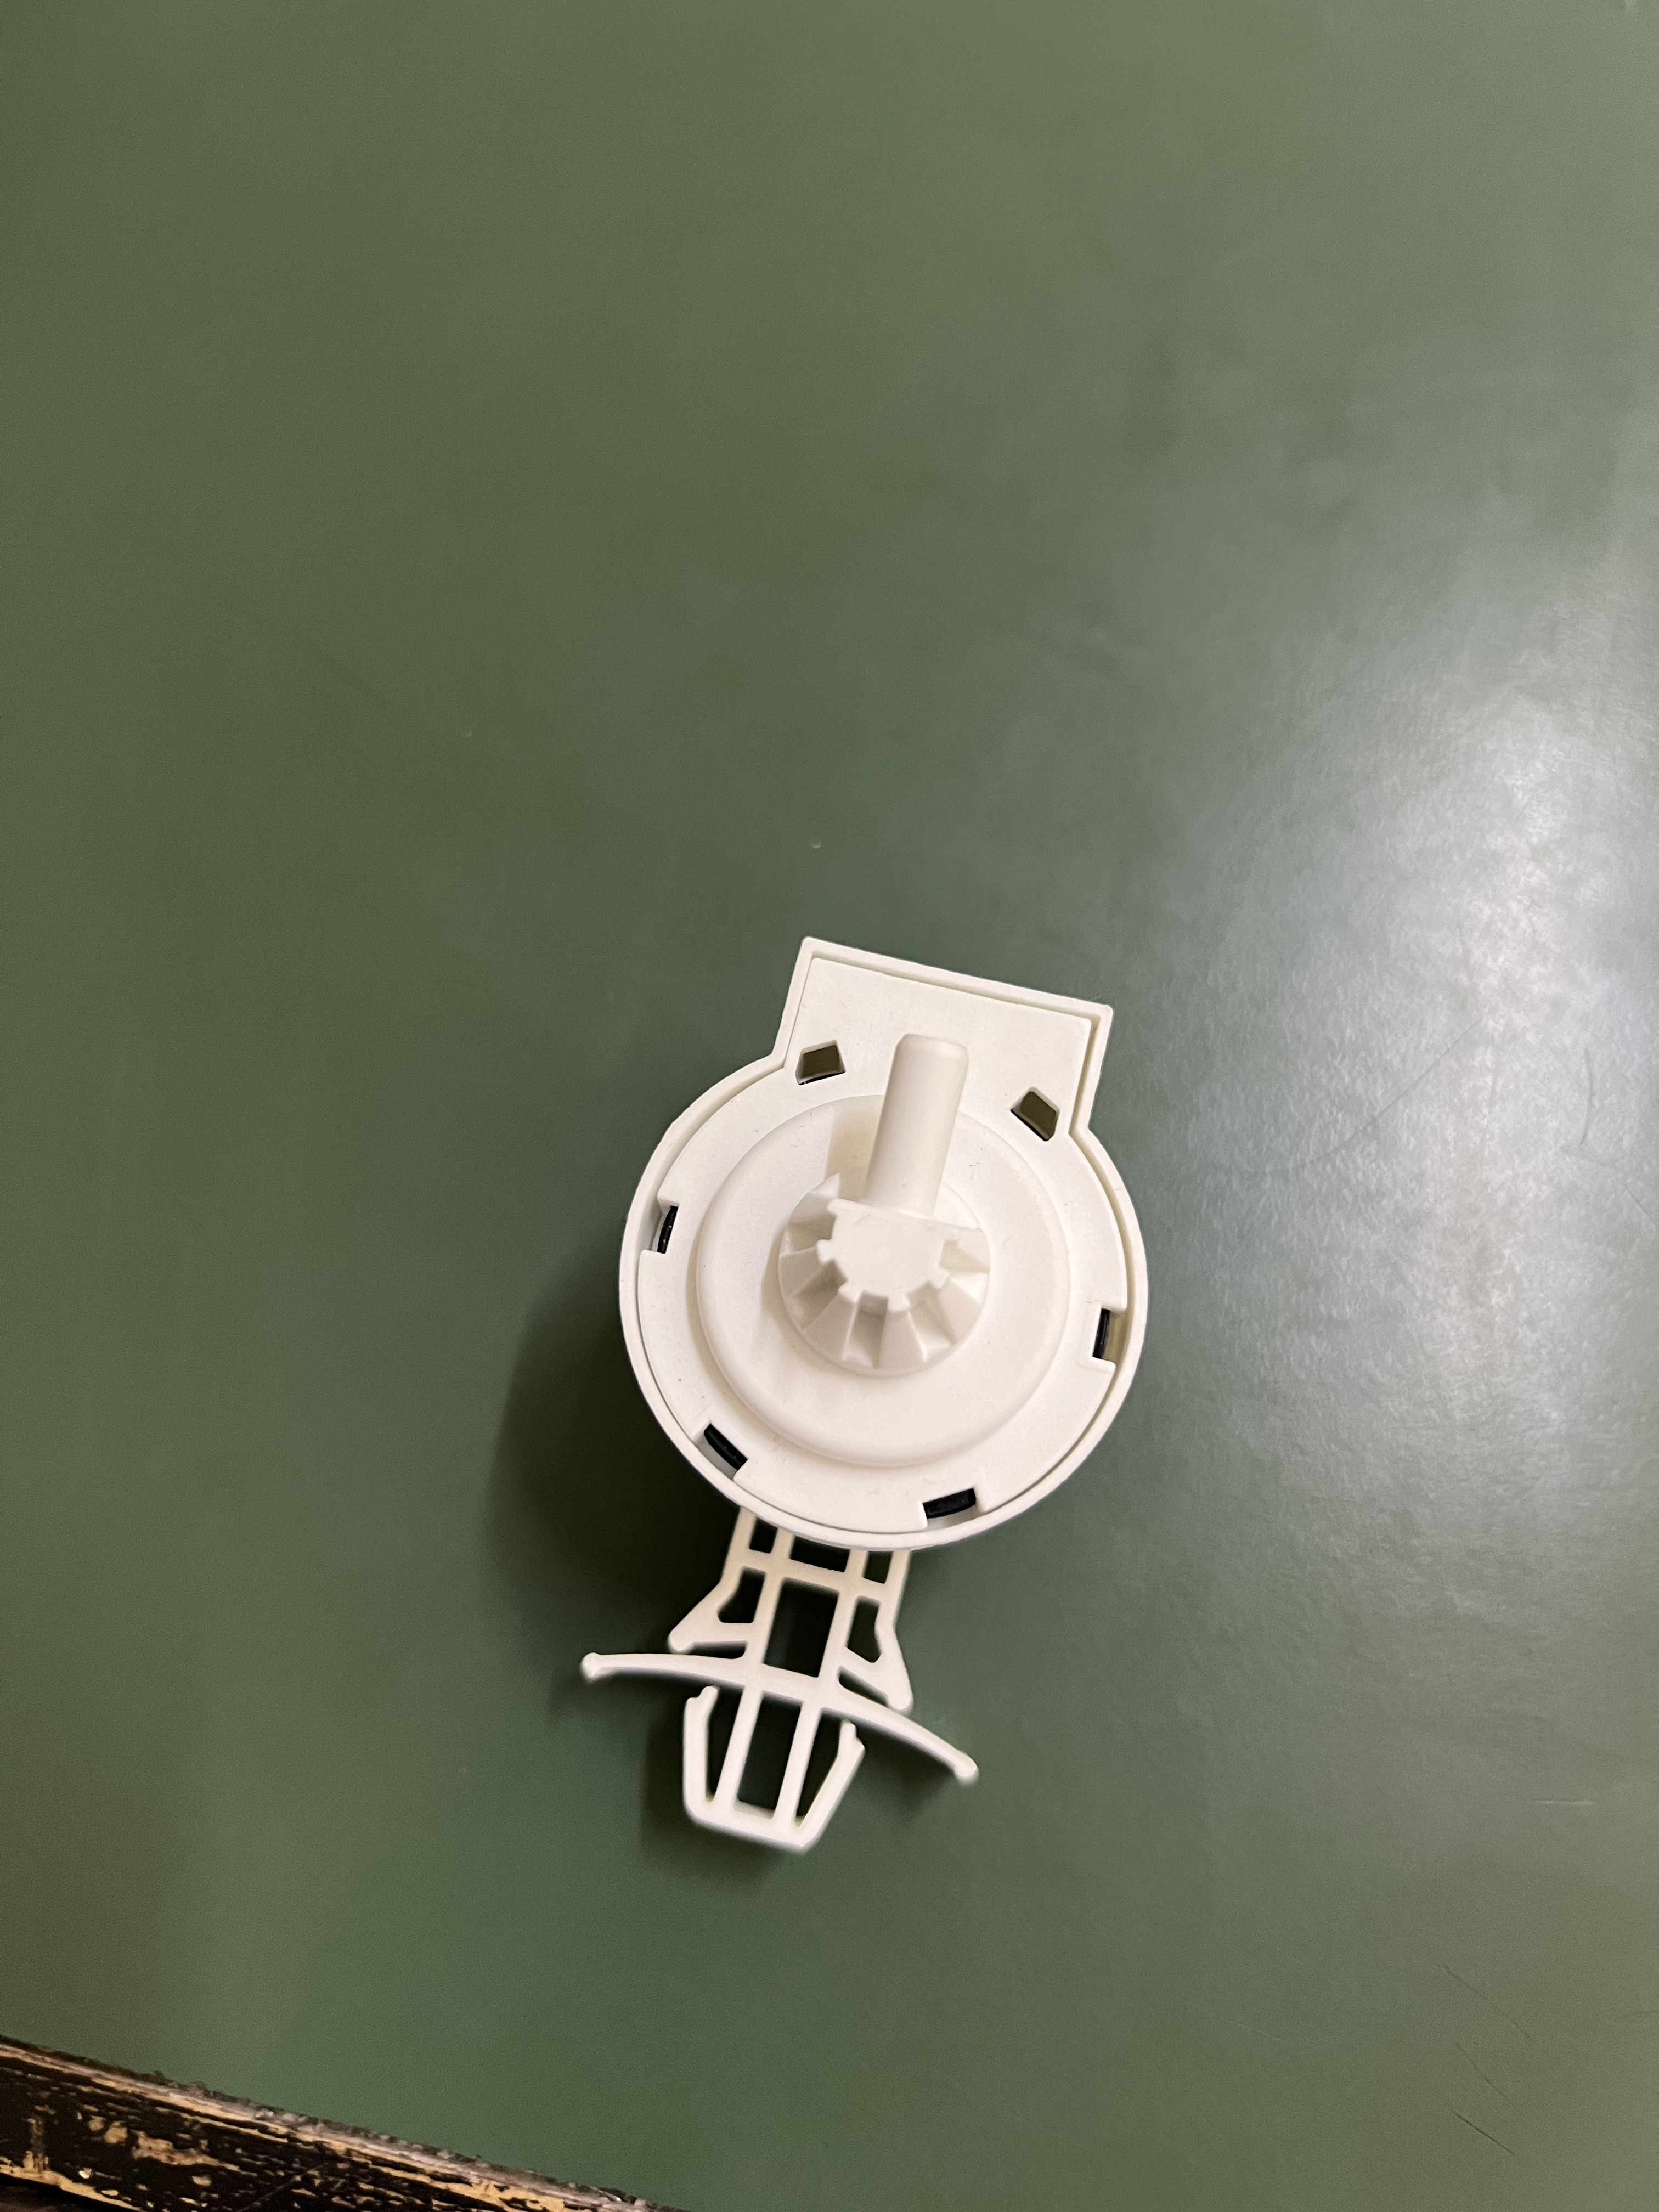pressure_switch_1: (582, 845, 1134, 1878)
